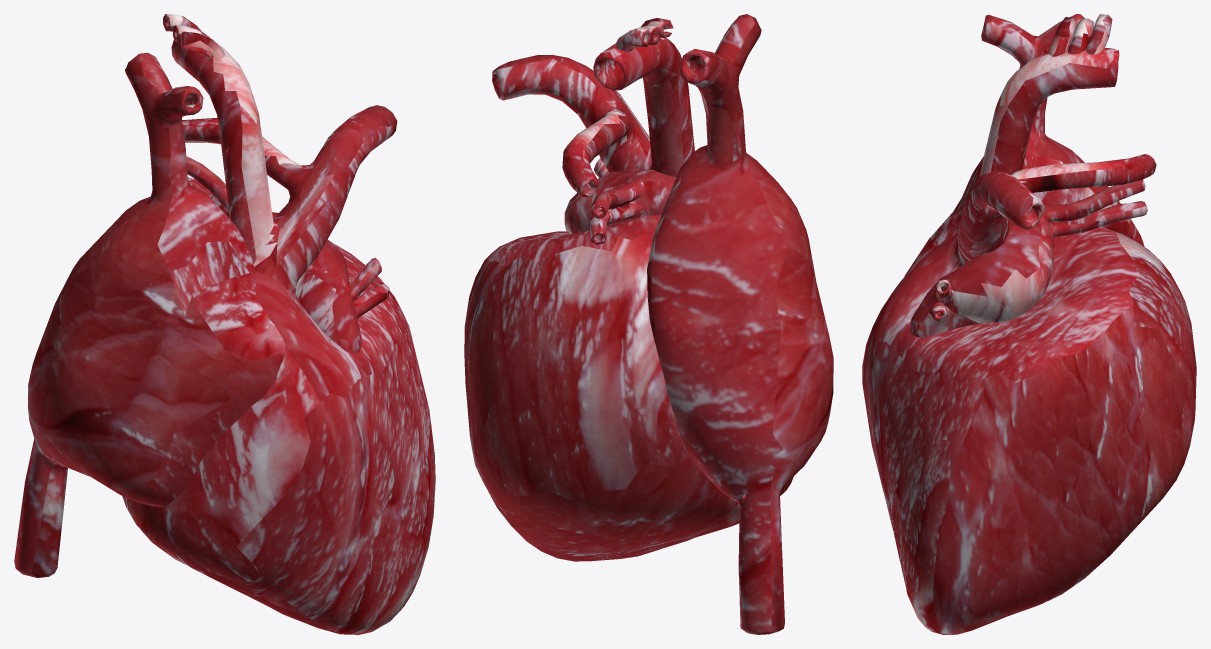
The model's file is heart.gltf.
3 renders of one model, left to right at view 1: azimuth 30°, elevation 25°; view 2: azimuth 150°, elevation 25°; view 3: azimuth 270°, elevation 25°, orthographic. The views are drawn at different scales.
Parts seen in each view (by area): view 1: Sphere; view 2: Sphere; view 3: Sphere.
Boxes of the visible parts, left/top/right/bottom form: Sphere: left=14, top=14, right=435, bottom=634; Sphere: left=464, top=14, right=833, bottom=634; Sphere: left=862, top=14, right=1196, bottom=634.
Size of the model in its own units: 0.7881 by 1.32 by 0.709.
Materials: 1 (1 with a texture image).
